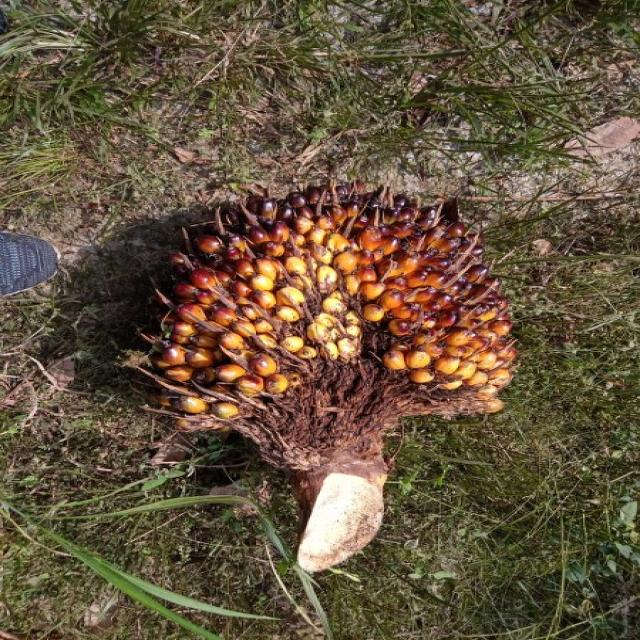fraksi 00: (140, 177, 524, 443)
